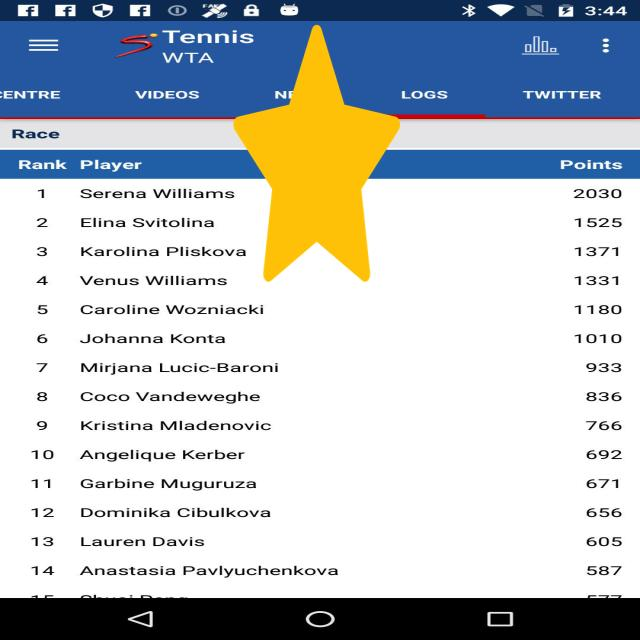forced continuity: (233, 25, 400, 282)
